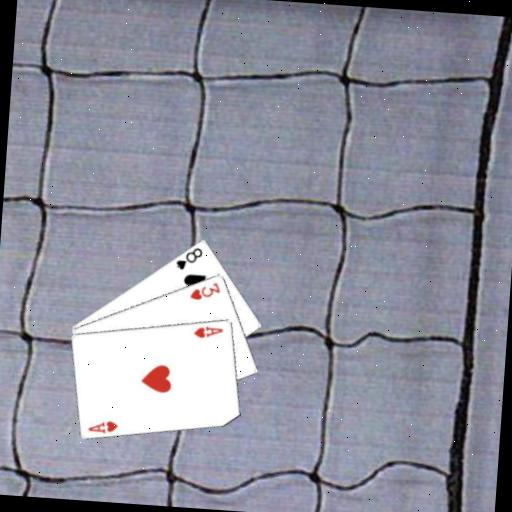3H: (187, 278, 223, 303)
8S: (173, 243, 205, 273)
AH: (190, 322, 225, 341), (85, 416, 120, 435)
